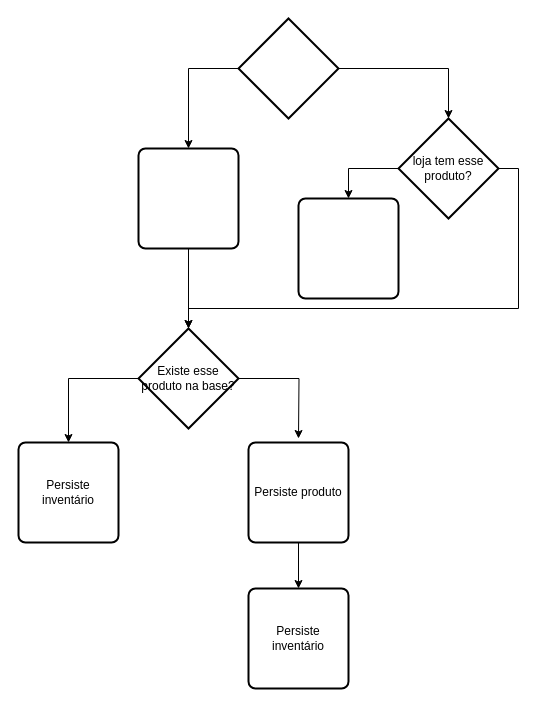
Image size: 544x706. Some labels were removed from this diagram. Each missing label, with the centre of its shape:
"loja existe na base?" belongs at [288,68].
"Persiste Loja" belongs at [188,198].
"Update no inventário" belongs at [348,248].
